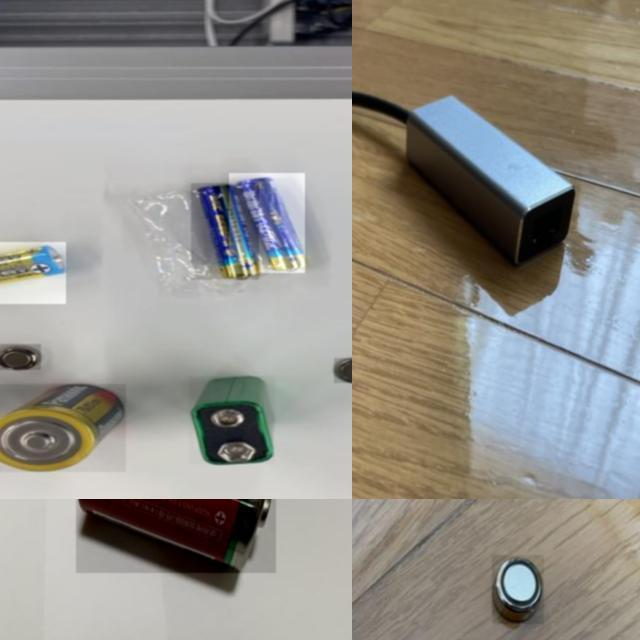9V: (189, 376, 275, 464)
